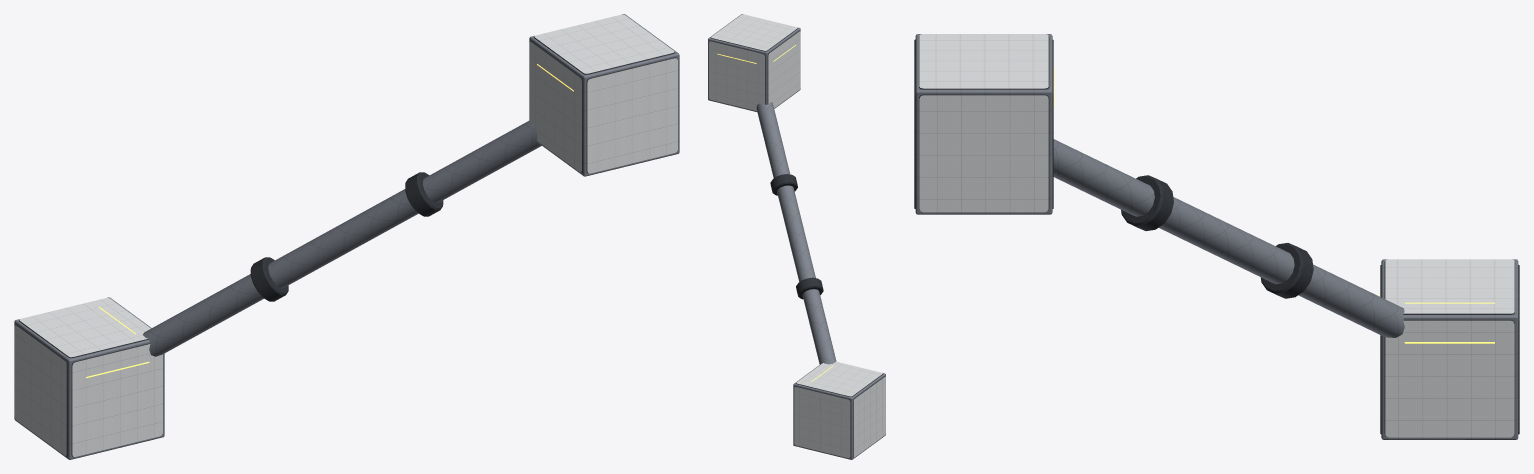
The model's file is R4C_ROD_DIAG_3D.glb.
The picture shows the model from 3 angles, left to right: view 1: azimuth 30°, elevation 25°; view 2: azimuth 150°, elevation 25°; view 3: azimuth 270°, elevation 25°; orthographic projection. The views are drawn at different scales.
Parts seen in each view (by area): view 1: R4C_ROD_DIAG_3D; view 2: R4C_ROD_DIAG_3D; view 3: R4C_ROD_DIAG_3D.
Part boxes in pixels (box(x1,y1,x2,y2)): R4C_ROD_DIAG_3D: box(14, 14, 679, 459); R4C_ROD_DIAG_3D: box(708, 14, 885, 459); R4C_ROD_DIAG_3D: box(914, 34, 1519, 439).
Bounding box in the file's own units: 1.62 × 1.62 × 1.62.
4 materials, 3 textured.
